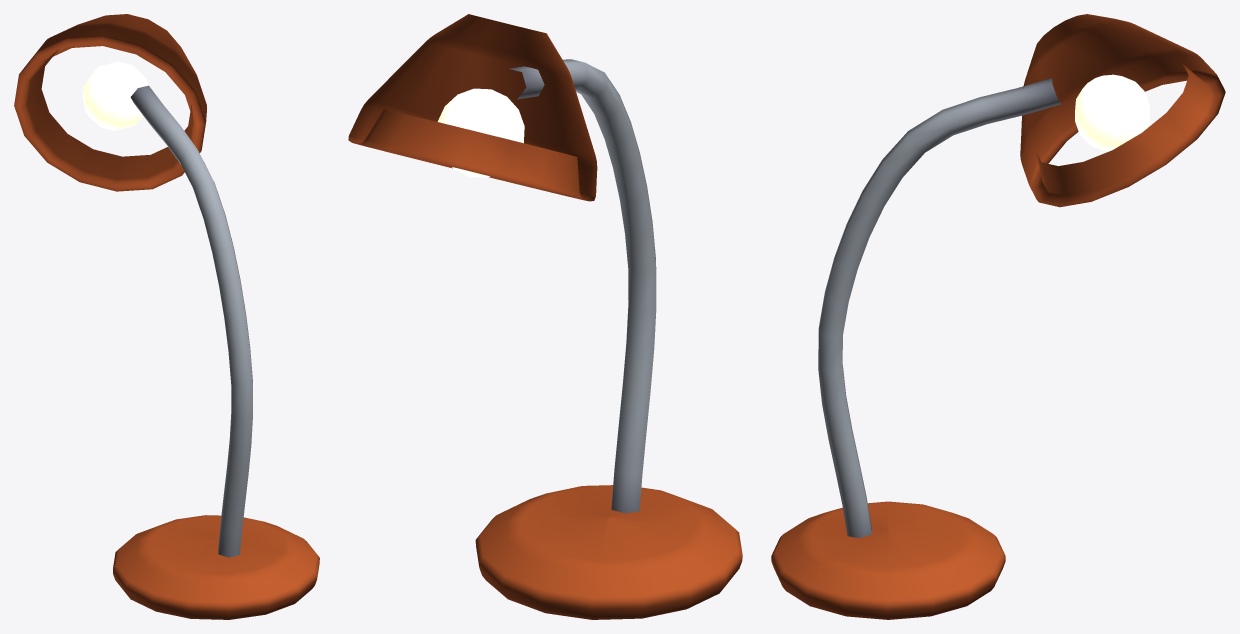
File: nm_desk_lamp__048.glb
3 renders of one model, left to right at view 1: azimuth 30°, elevation 25°; view 2: azimuth 150°, elevation 25°; view 3: azimuth 270°, elevation 25°, orthographic. The views are drawn at different scales.
Parts seen in each view (by area): view 1: merged_toon_ffffff, prop_nm_desk_lamp, group; view 2: merged_toon_ffffff, prop_nm_desk_lamp, group; view 3: merged_toon_ffffff, prop_nm_desk_lamp, group.
Boxes of the visible parts, x1,y1,x2,y2 form: merged_toon_ffffff: [14, 14, 319, 619]; prop_nm_desk_lamp: [130, 85, 252, 557]; group: [82, 61, 148, 130]; merged_toon_ffffff: [348, 14, 742, 619]; prop_nm_desk_lamp: [508, 59, 656, 513]; group: [437, 88, 524, 177]; merged_toon_ffffff: [771, 14, 1225, 619]; prop_nm_desk_lamp: [818, 78, 1060, 538]; group: [1075, 74, 1149, 151].
Size of the model in its own units: 0.1671 by 0.4359 by 0.3238.
